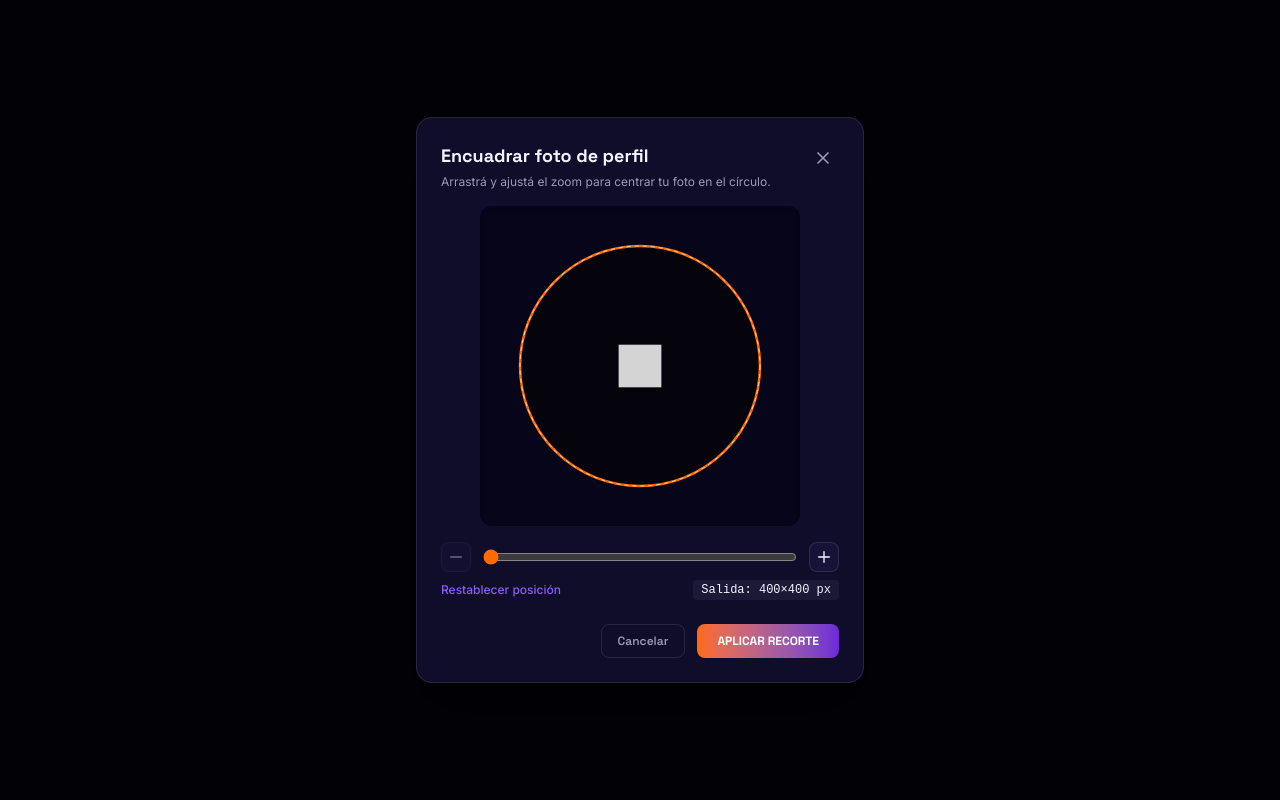
Test case: ModalRecortarAvatar › Comportamiento del componente y overlay circular › permite ajustar el zoom con slider y botones
expect the slider named "nivel de zoom" holds "1": met, box [483, 549, 797, 565]
Click the button named "acercar" at (824, 557), box [809, 542, 839, 572]
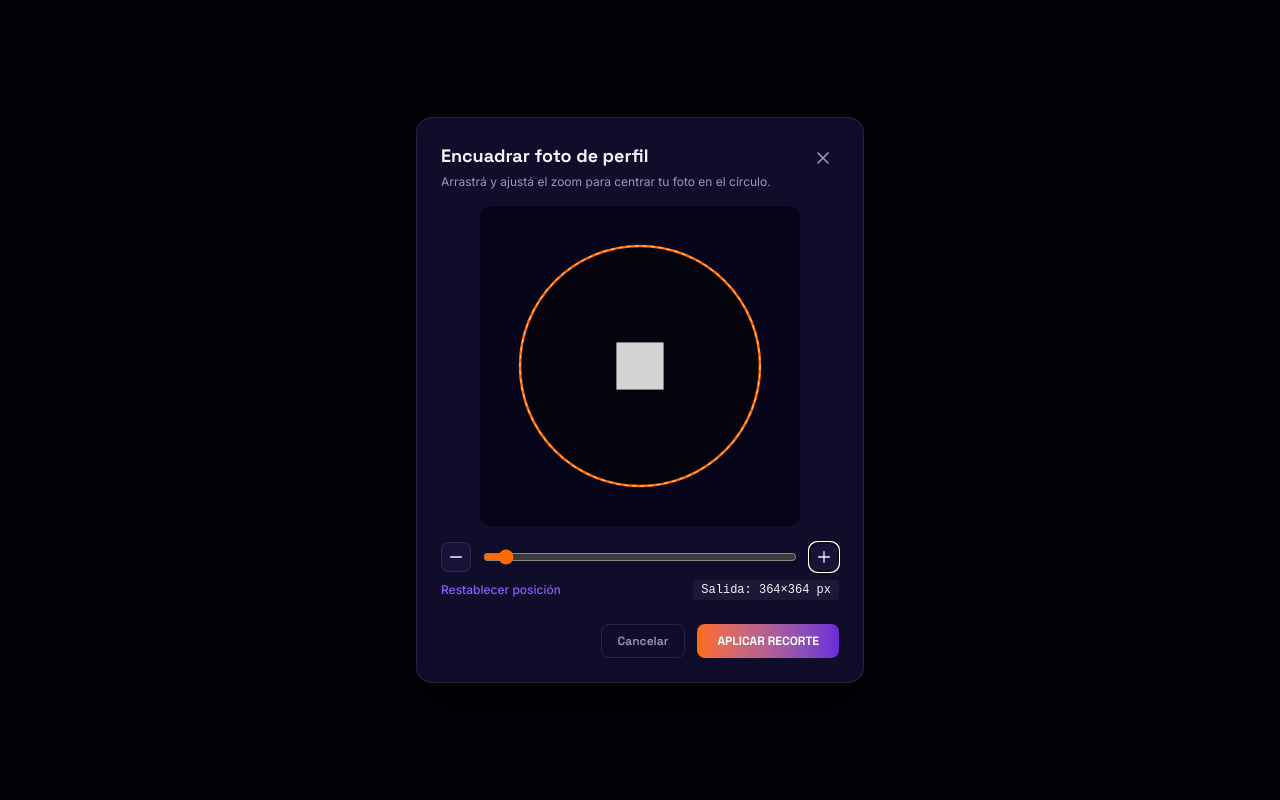
Click the button "Restablecer posición" at (501, 590), box [441, 582, 561, 598]
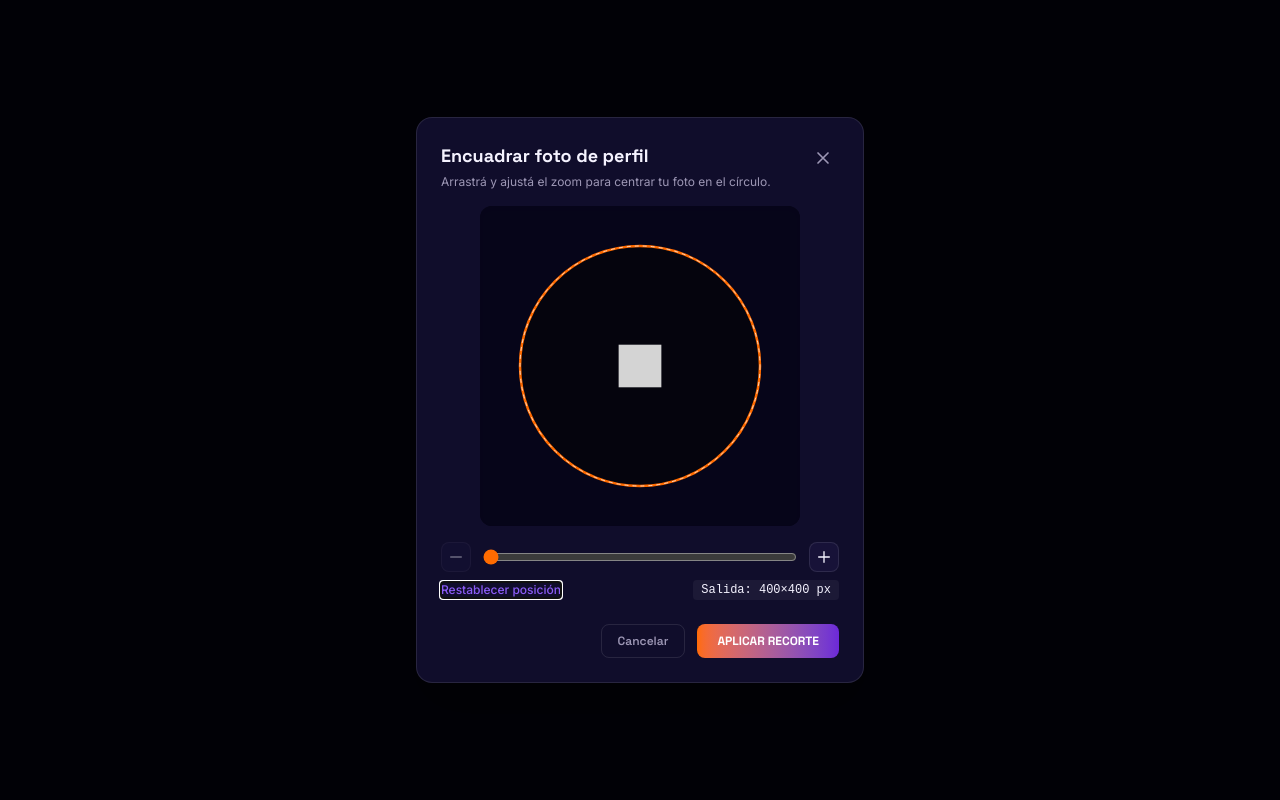
expect the slider named "nivel de zoom" holds "1": met, box [483, 549, 797, 565]
